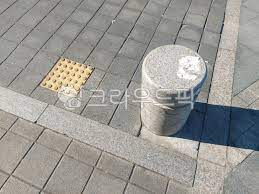guide_blocks: (39, 57, 97, 94)
